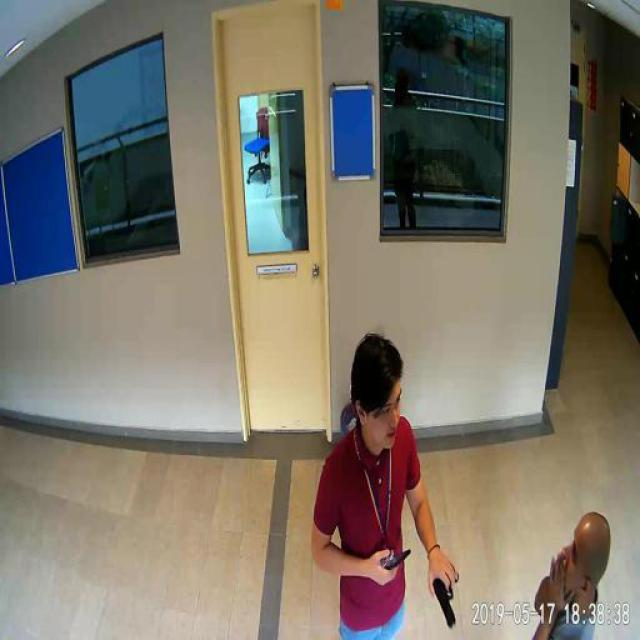weapon: (426, 562, 460, 627)
